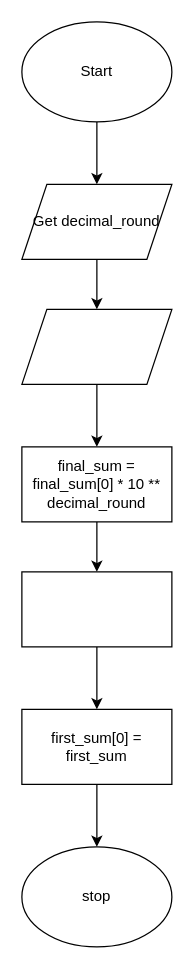
This 194x969 diagram has some shape labels left out. The centre of each missing label's shape, as x and y in pixels:
"first_sum = int(first_sum + 0.5)" goes at (96,609).
"Get sum" goes at (96,346).
